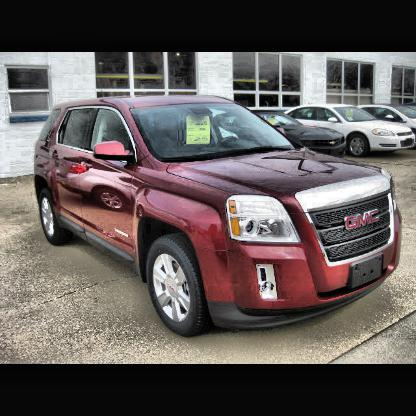GMC Terrain SUV 2012: (32, 96, 404, 341)
